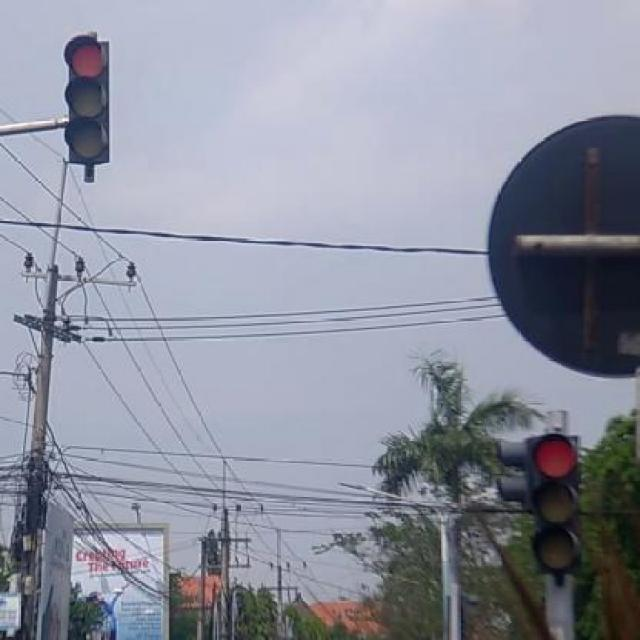traffic light: (530, 434, 583, 569), (65, 34, 110, 165)
